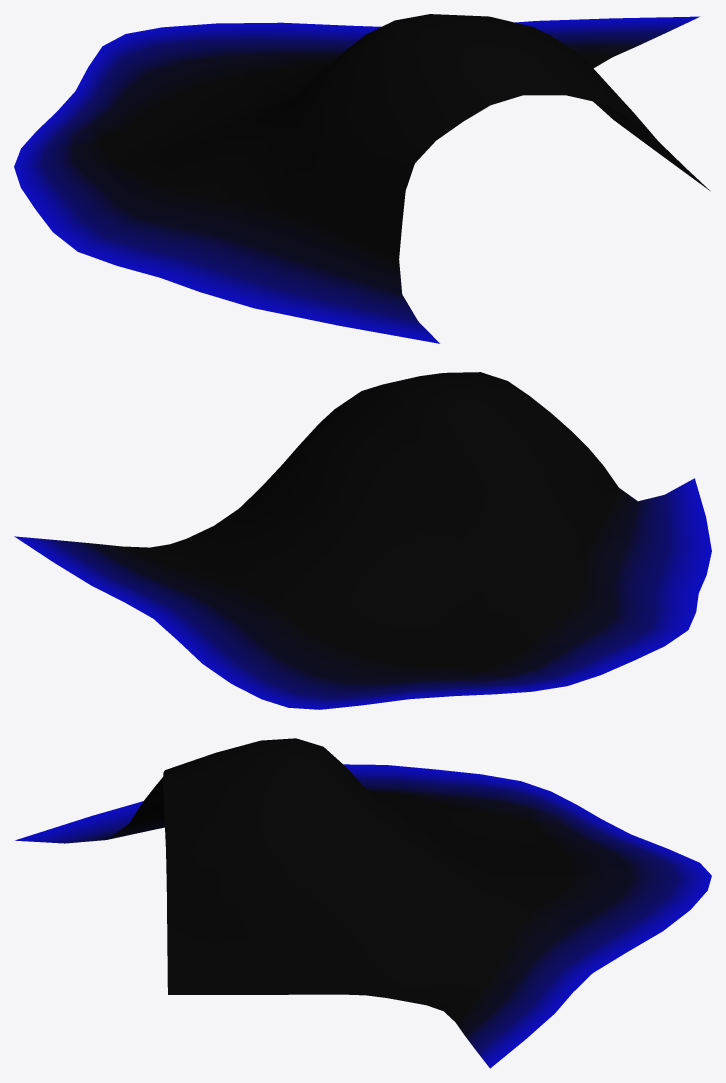
Rendered from DBK_BrickSide_Rubble_Tile.FBX.
3 renders of one model, top to bottom at view 1: azimuth 30°, elevation 25°; view 2: azimuth 150°, elevation 25°; view 3: azimuth 270°, elevation 25°, orthographic. The views are drawn at different scales.
Parts seen in each view (by area): view 1: DBK_BrickSide_Rubble_Tile; view 2: DBK_BrickSide_Rubble_Tile; view 3: DBK_BrickSide_Rubble_Tile.
Boxes of the visible parts, left/top/right/bottom form: DBK_BrickSide_Rubble_Tile: left=14, top=14, right=710, bottom=343; DBK_BrickSide_Rubble_Tile: left=14, top=372, right=711, bottom=709; DBK_BrickSide_Rubble_Tile: left=15, top=738, right=711, bottom=1068.
Bounding box in the file's own units: 1599 × 377 × 1550.
